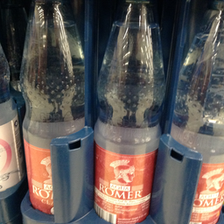water: (94, 1, 167, 224), (18, 1, 84, 216), (172, 1, 223, 223)
